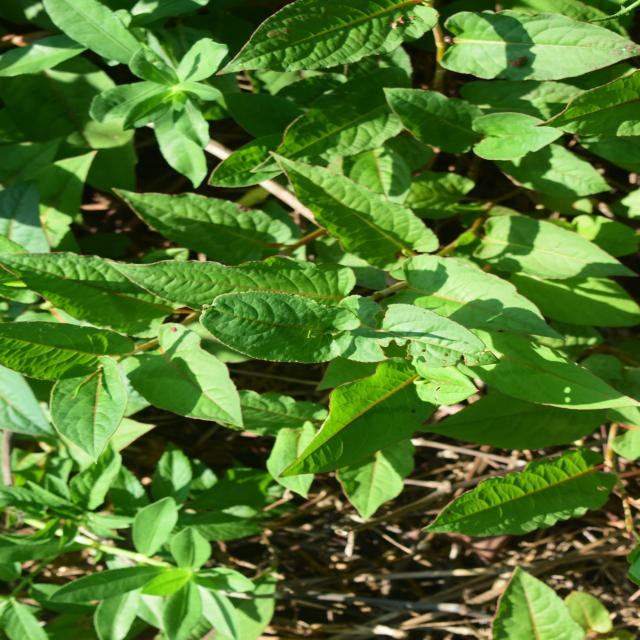Chinese_knotweed: (253, 126, 456, 496)
